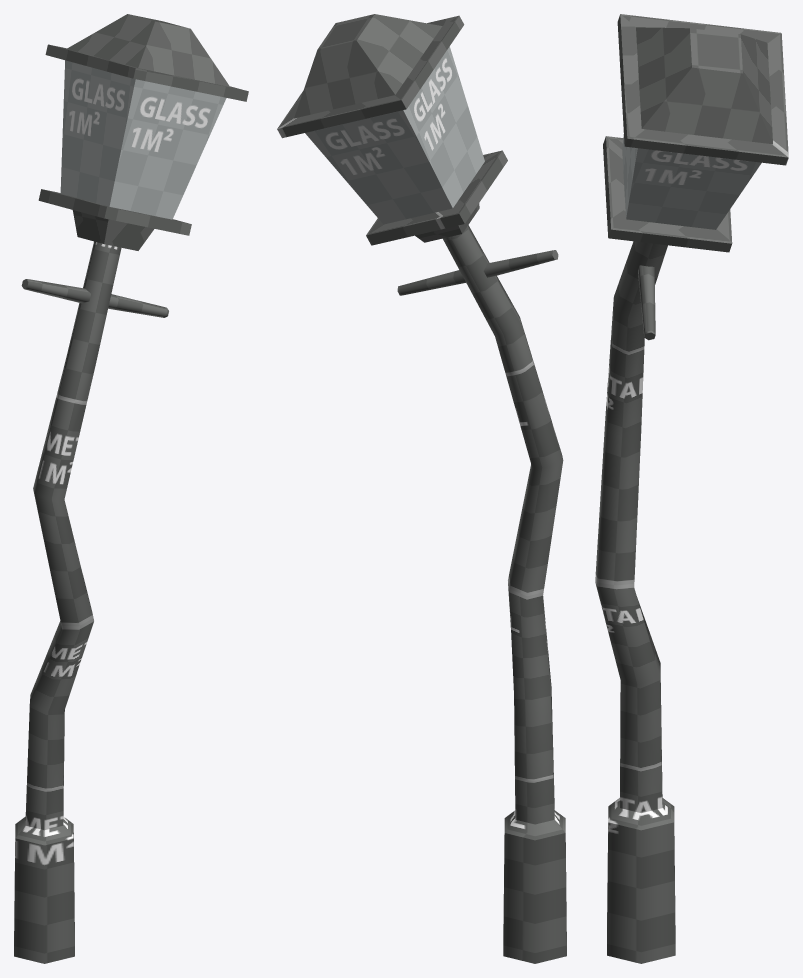
Rendered from EnglishLampBent.fbx.
3 views of the same model, side by side, from view 1: azimuth 30°, elevation 25°; view 2: azimuth 150°, elevation 25°; view 3: azimuth 270°, elevation 25° (orthographic). The views are drawn at different scales.
Parts seen in each view (by area): view 1: EnglishLampBent; view 2: EnglishLampBent; view 3: EnglishLampBent.
Boxes of the visible parts, x1,y1,x2,y2 form: EnglishLampBent: (14,14,248,963); EnglishLampBent: (277,14,566,963); EnglishLampBent: (595,14,788,963).
Size of the model in its own units: 101 by 371 by 65.65.
